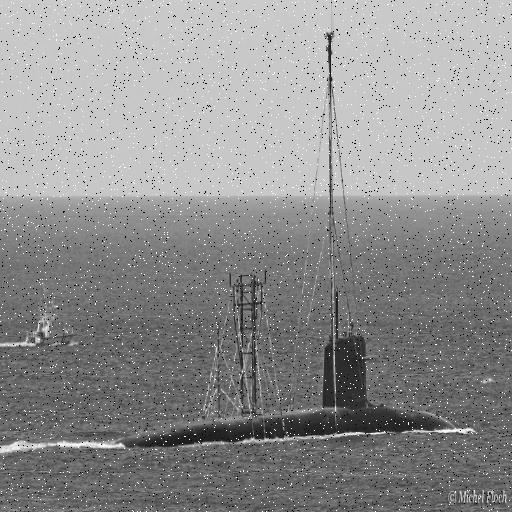submarine: (114, 333, 479, 450)
